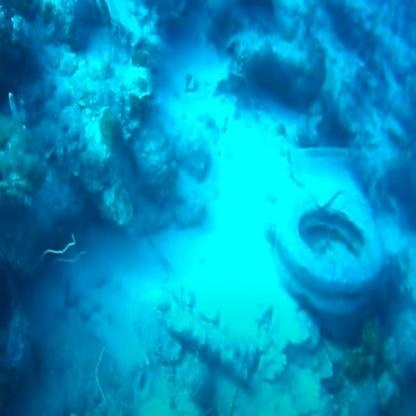tire: (223, 175, 398, 338)
